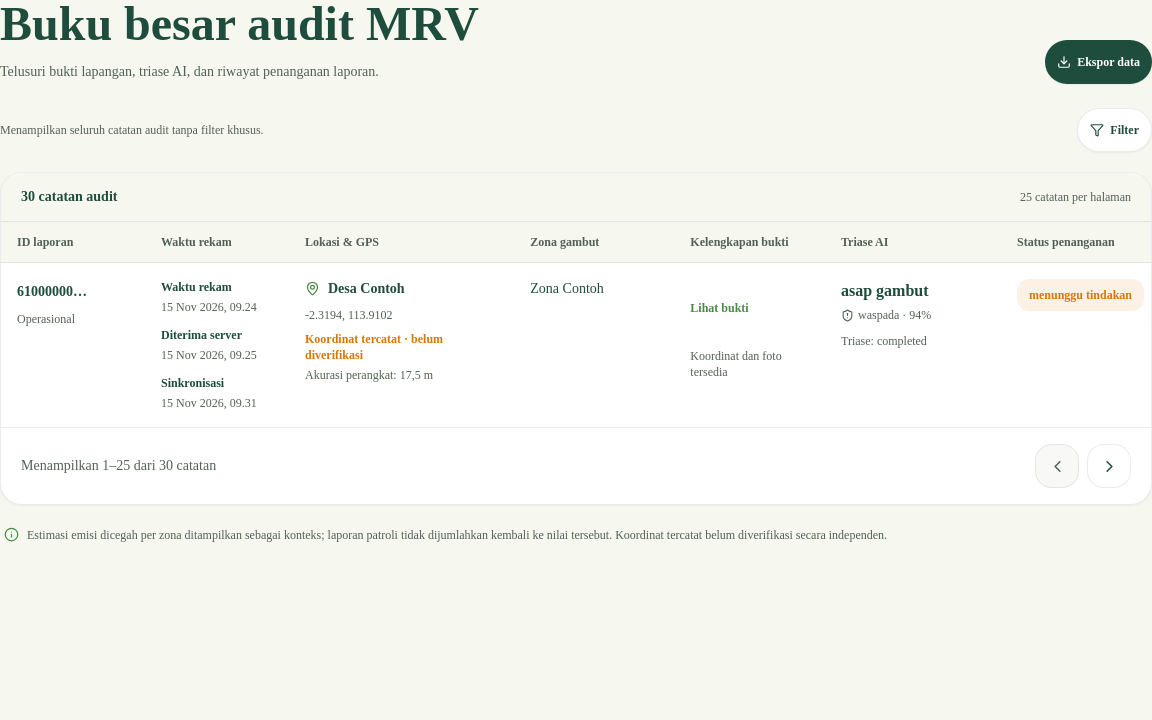
Scenario: photo viewer uses the private same-origin endpoint and restores focus
Click the button with aria-label "Lihat foto bukti laporan 61000000": (720, 318) [690,296,749,340]
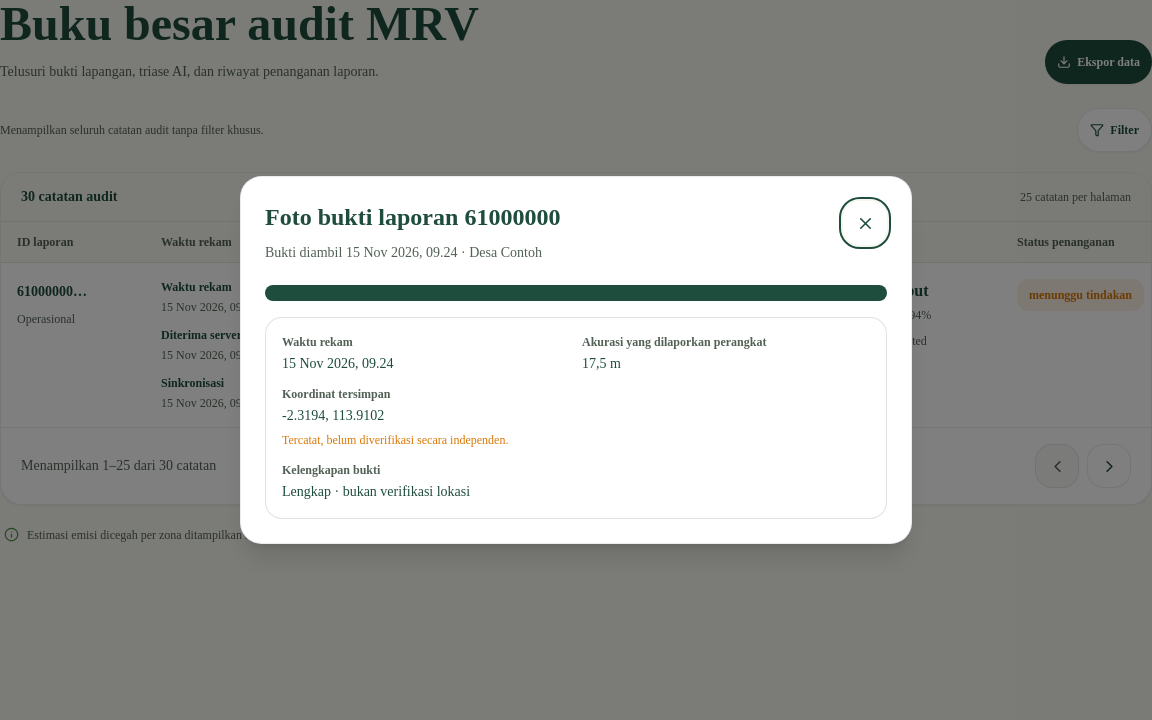
expect the dialog "Foto bukti laporan 61000000" shows "belum diverifikasi secara independen": met, box [282,433,508,447]
Press Escape
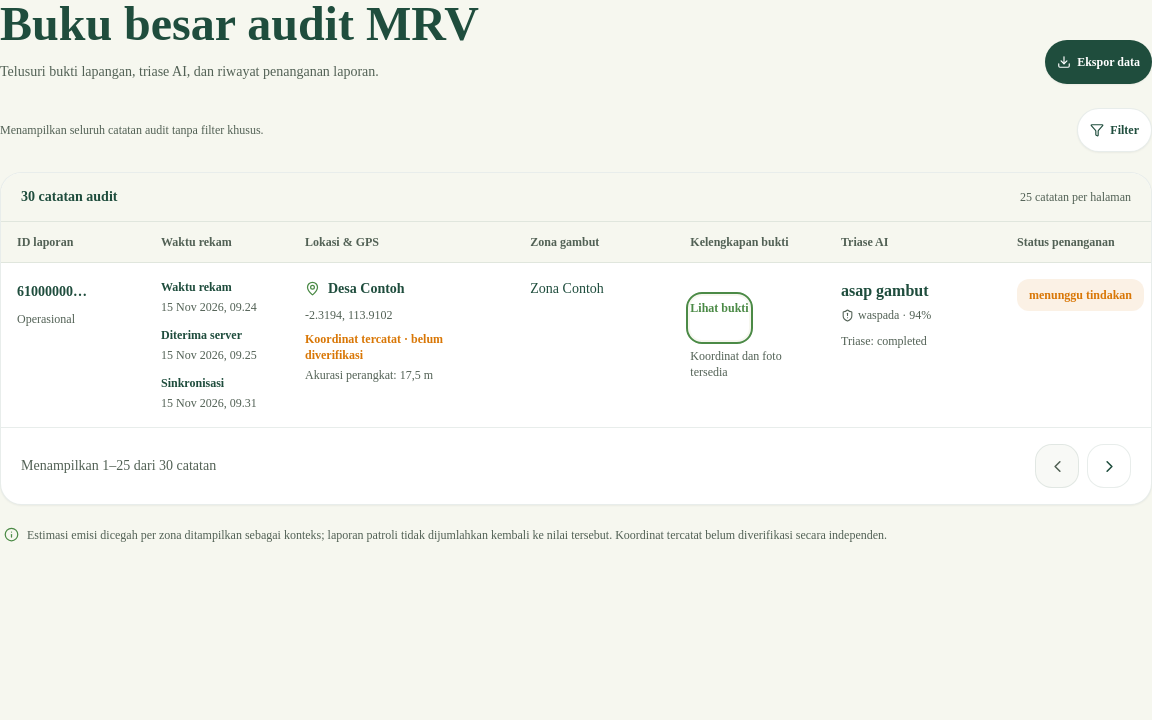
expect the dialog is gone: met
